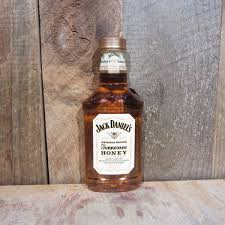Jack Daniel: (78, 35, 147, 193)
